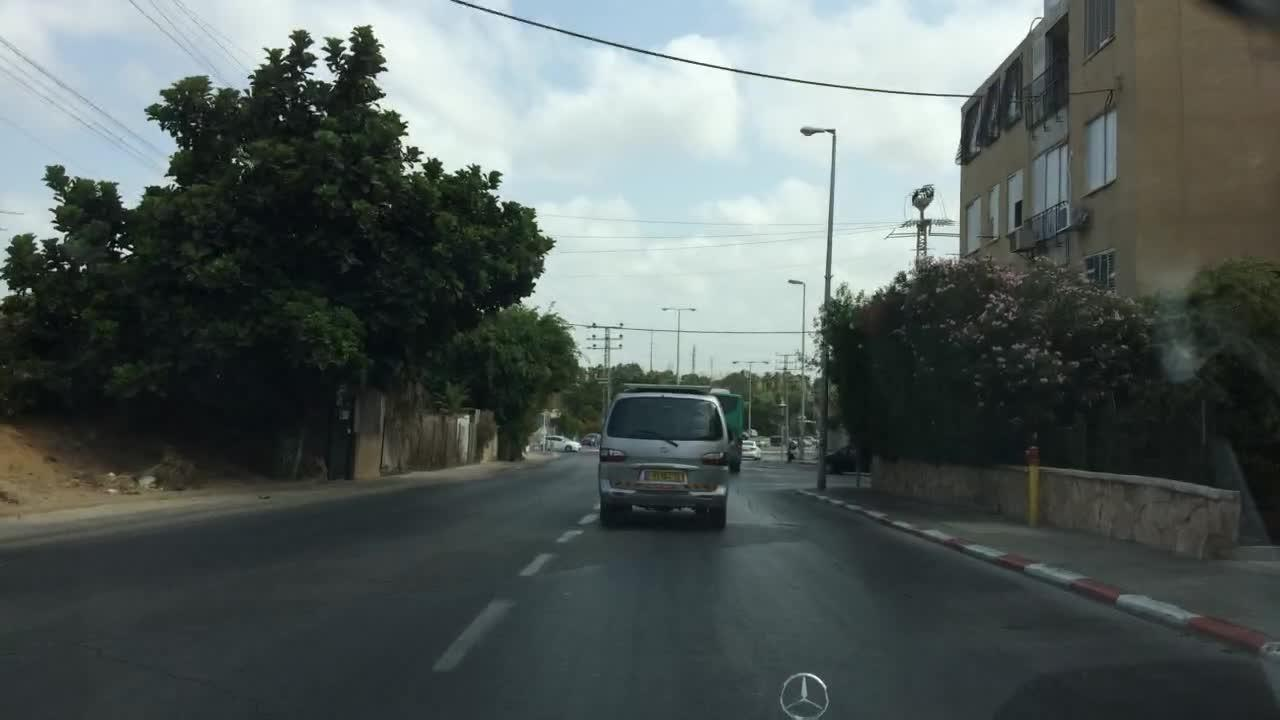Mercedes: (745, 617, 859, 720)
